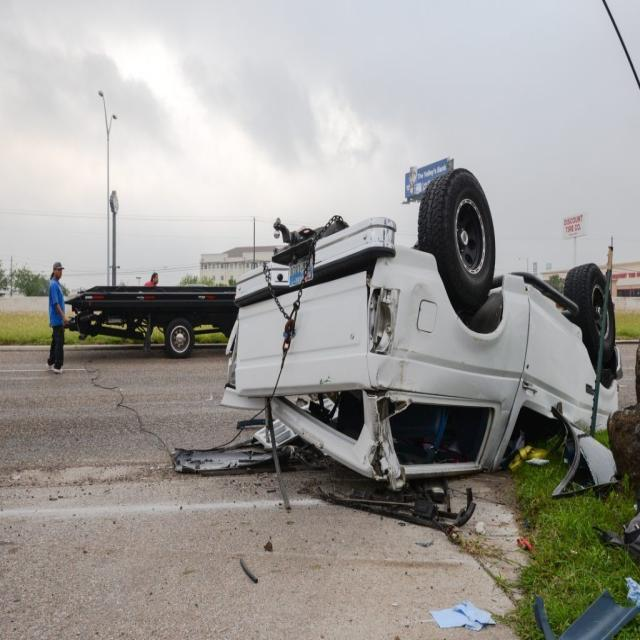accident: (217, 233, 640, 512)
